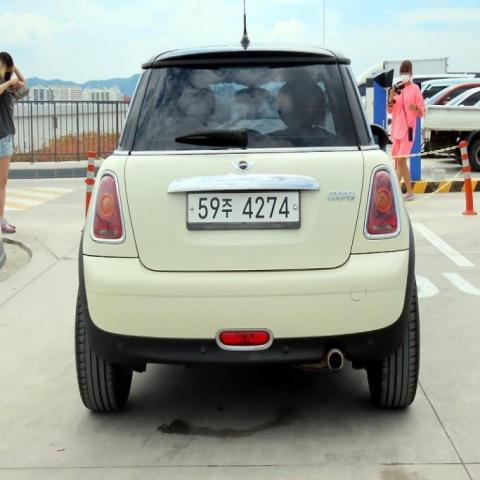LP: (182, 185, 303, 233)
